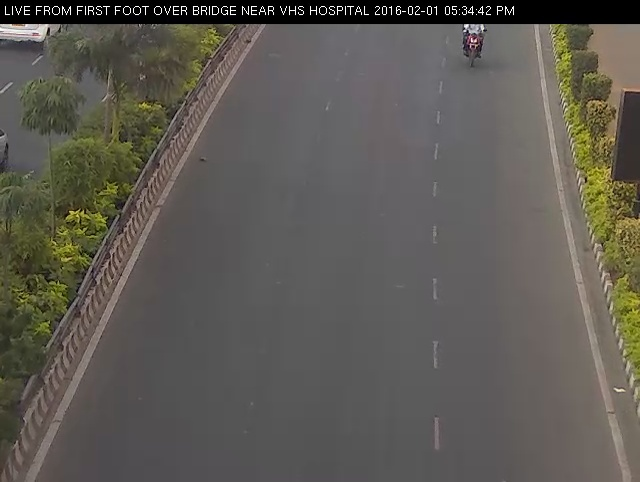Person: (450, 16, 496, 82)
